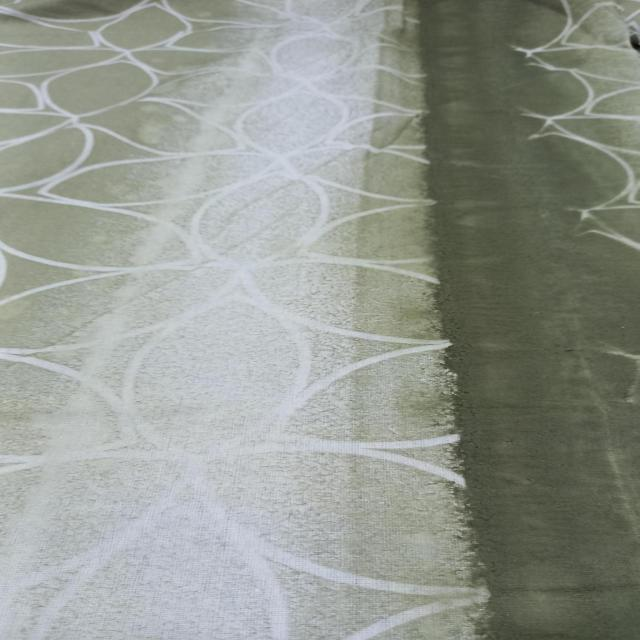baekra: (27, 16, 629, 628)
